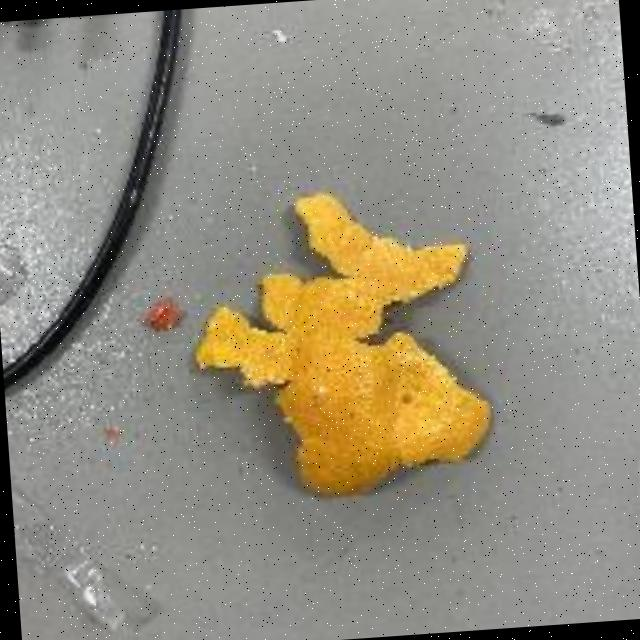orange-peel: (181, 177, 498, 506)
